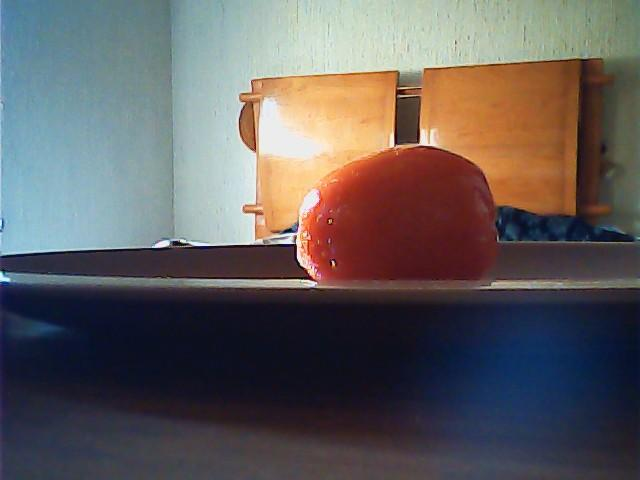maduro: (294, 141, 500, 285)
